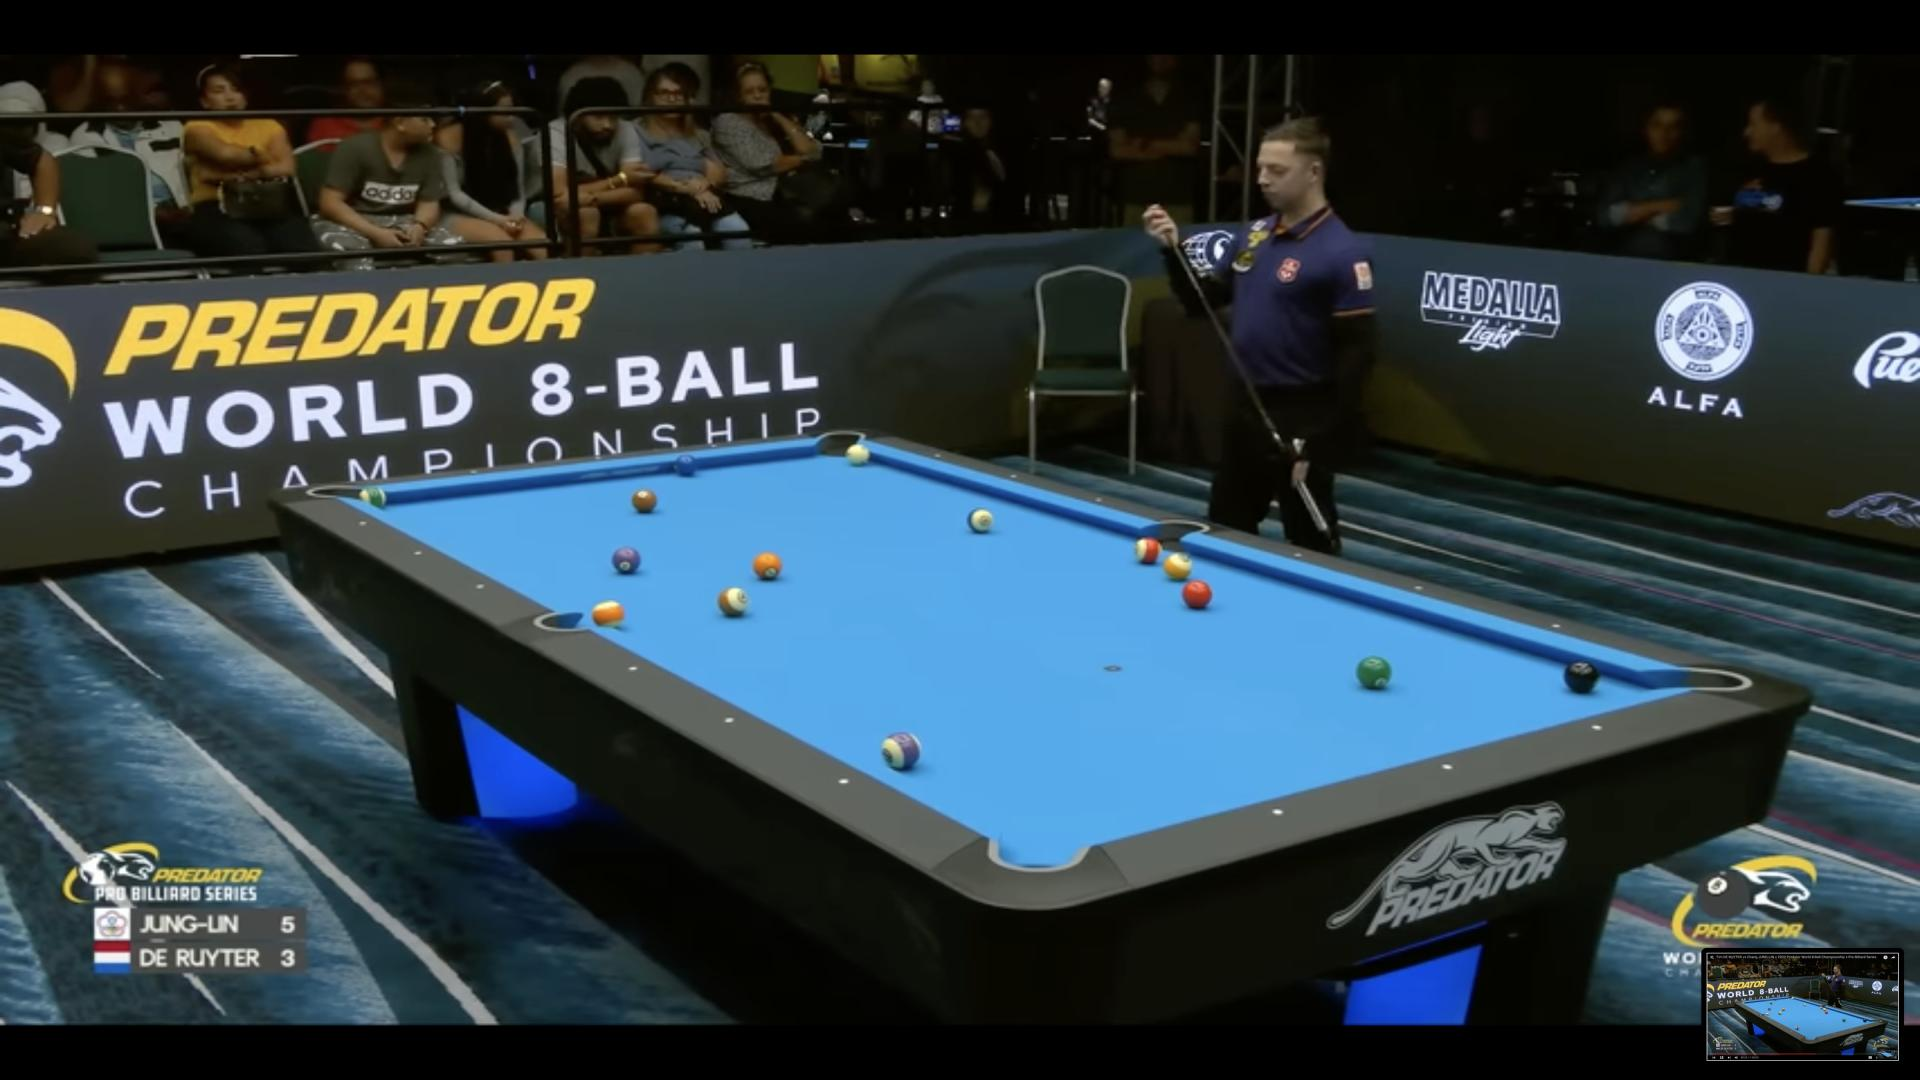Black: (1564, 661, 1598, 692)
Cue: (845, 444, 870, 467)
Dot: (837, 777, 851, 787), (1271, 807, 1283, 818), (1441, 761, 1453, 771), (723, 715, 735, 725), (626, 663, 638, 674), (475, 582, 487, 592), (357, 518, 369, 529), (1549, 622, 1563, 632), (411, 549, 422, 559), (1592, 723, 1604, 732), (1414, 584, 1423, 592), (1294, 551, 1303, 559), (1093, 497, 1102, 505), (1009, 472, 1018, 480), (934, 451, 943, 459), (709, 443, 719, 451), (596, 455, 601, 460), (471, 469, 476, 475)
Solid: (1356, 655, 1391, 687), (1183, 580, 1212, 608), (753, 551, 782, 579), (612, 546, 641, 574), (632, 489, 657, 513), (674, 455, 696, 476)
Striped: (881, 732, 920, 769), (717, 587, 749, 615), (592, 600, 624, 626), (1163, 554, 1192, 579), (1134, 538, 1162, 563), (967, 508, 992, 533), (359, 487, 385, 508)
